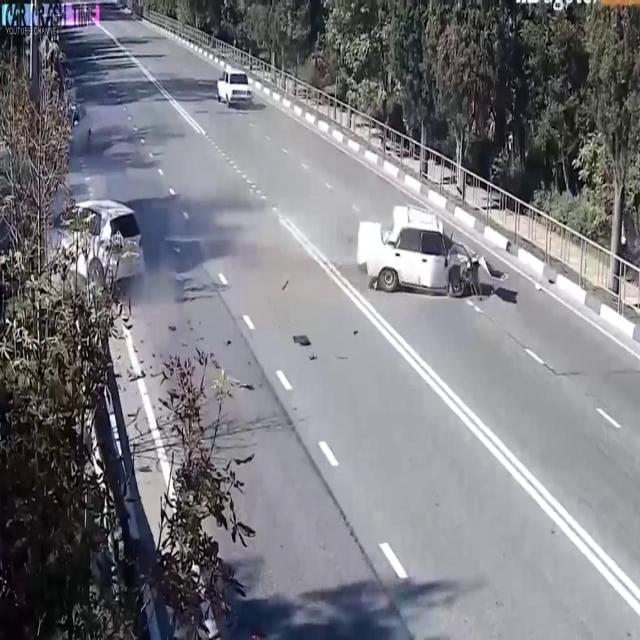accident: (353, 196, 514, 315)
